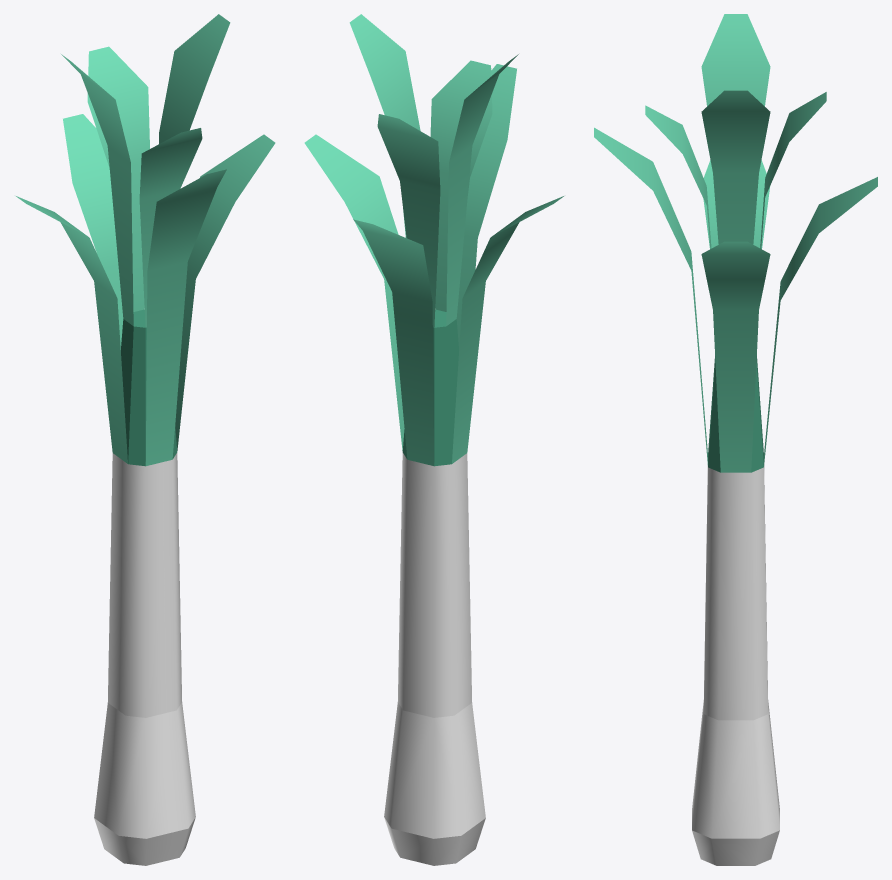
File: Leek.glb
The picture shows the model from 3 angles, left to right: view 1: azimuth 30°, elevation 25°; view 2: azimuth 150°, elevation 25°; view 3: azimuth 270°, elevation 25°; orthographic projection.
Parts seen in each view (by area): view 1: leek; view 2: leek; view 3: leek.
Part boxes in pixels (<box>): leek: <box>16,14,275,865</box>; leek: <box>304,14,563,865</box>; leek: <box>594,14,877,865</box>.
Bounding box in the file's own units: 0.2729 × 0.8474 × 0.2729.
